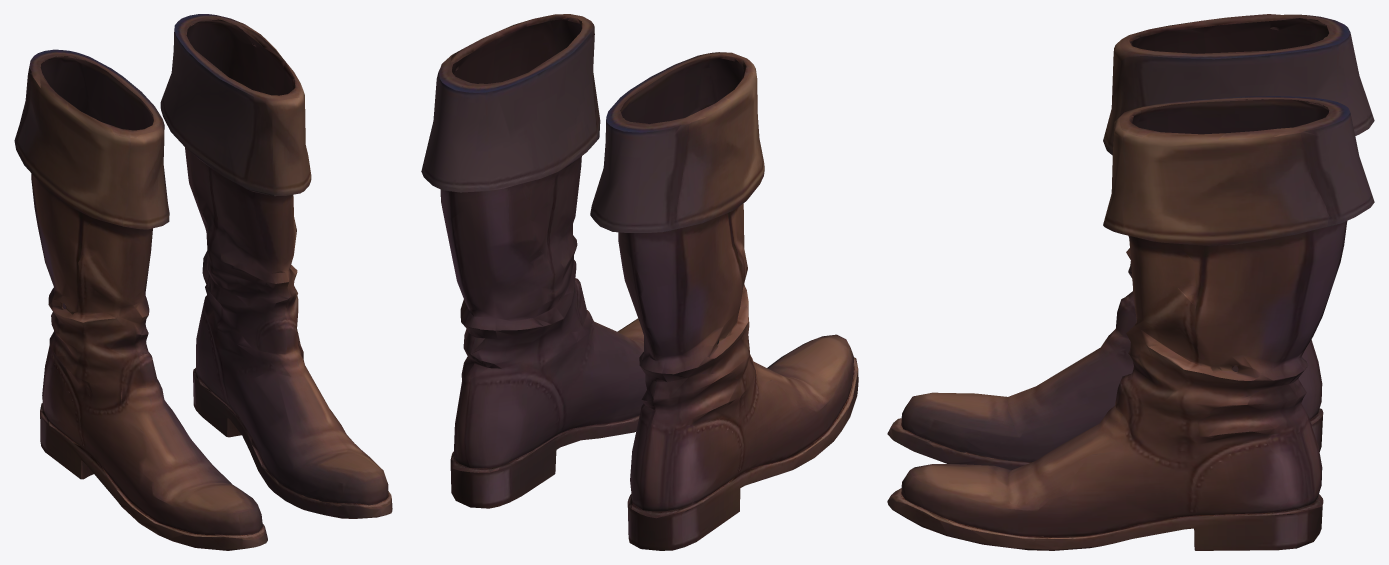
File: mage_m_boots.glb
3 renders of one model, left to right at view 1: azimuth 30°, elevation 25°; view 2: azimuth 150°, elevation 25°; view 3: azimuth 270°, elevation 25°, orthographic. The views are drawn at different scales.
Visible parts, largest first — view 1: world; view 2: world; view 3: world.
Boxes of the visible parts, left/top/right/bottom form: world: left=14, top=14, right=392, bottom=550; world: left=421, top=14, right=858, bottom=550; world: left=887, top=14, right=1374, bottom=550.
Size of the model in its own units: 0.3029 by 0.4598 by 0.48.
Materials: 1 (1 with a texture image).
